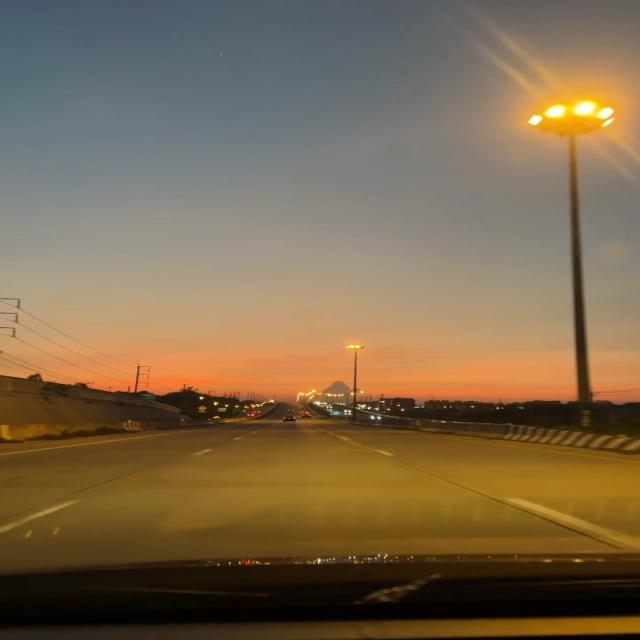Poth-hole: (141, 447, 551, 518)
